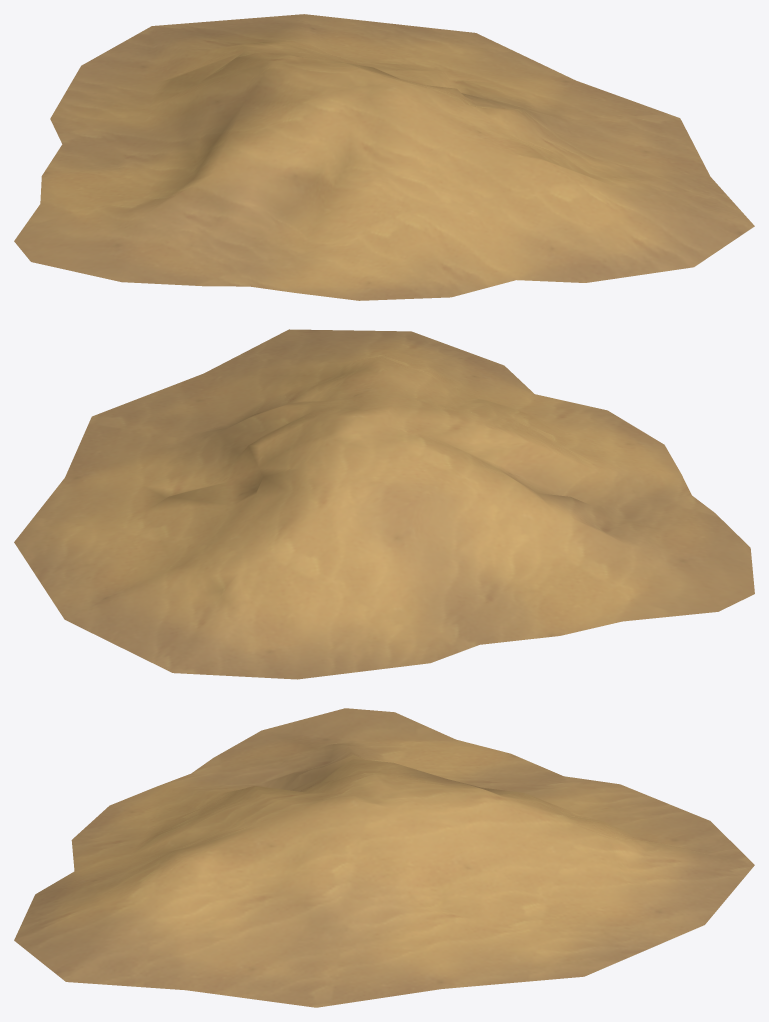
File: Area_15_11.fbx
3 renders of one model, top to bottom at view 1: azimuth 30°, elevation 25°; view 2: azimuth 150°, elevation 25°; view 3: azimuth 270°, elevation 25°, orthographic. The views are drawn at different scales.
Parts seen in each view (by area): view 1: Area_15_11; view 2: Area_15_11; view 3: Area_15_11.
Part boxes in pixels (x1,y1,x2,y2): Area_15_11: [14, 14, 754, 300]; Area_15_11: [14, 329, 754, 679]; Area_15_11: [14, 708, 754, 1007].
Bounding box in the file's own units: 5544 × 678 × 5794.
Materials: 1 (1 with a texture image).
